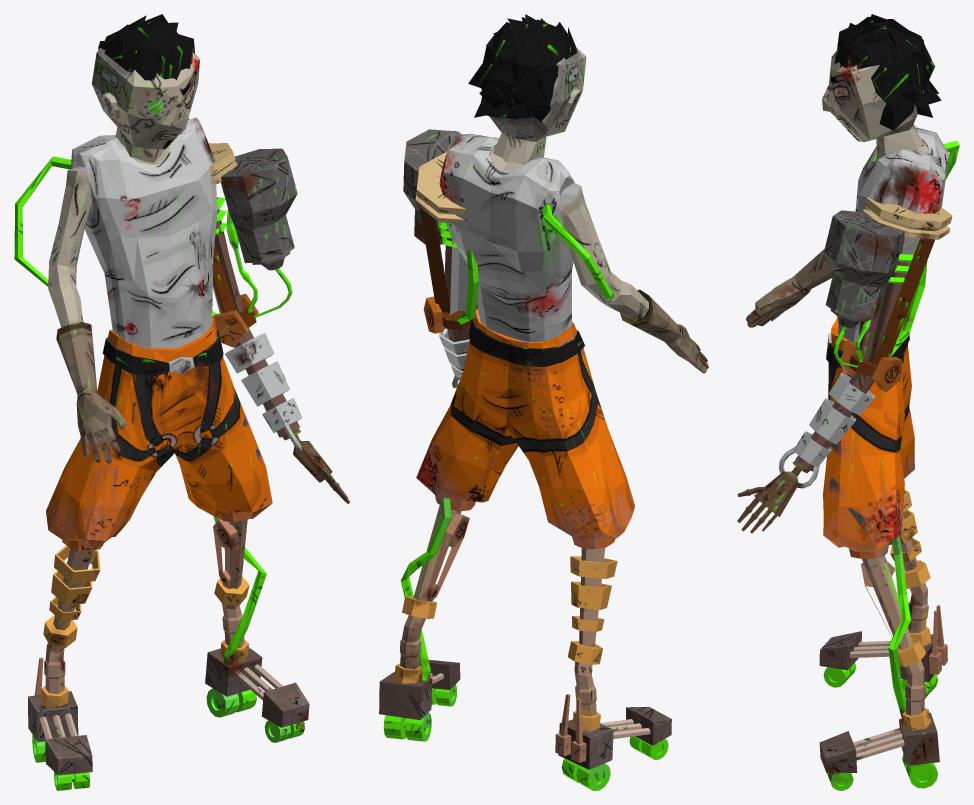
The model's file is CyborgFINALAnimation_000180.obj.
3 views of the same model, side by side, from view 1: azimuth 30°, elevation 25°; view 2: azimuth 150°, elevation 25°; view 3: azimuth 270°, elevation 25° (orthographic). The views are drawn at different scales.
Visible parts, largest first — view 1: CyborgMesh_Cube.002; view 2: CyborgMesh_Cube.002; view 3: CyborgMesh_Cube.002.
Part boxes in pixels (x1,y1,x2,y2): CyborgMesh_Cube.002: (14, 14, 349, 790); CyborgMesh_Cube.002: (379, 14, 708, 790); CyborgMesh_Cube.002: (737, 14, 959, 790).
Size of the model in its own units: 3.49 by 9.63 by 2.72.
